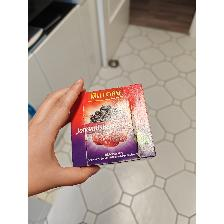Tee: (69, 83, 157, 167)
